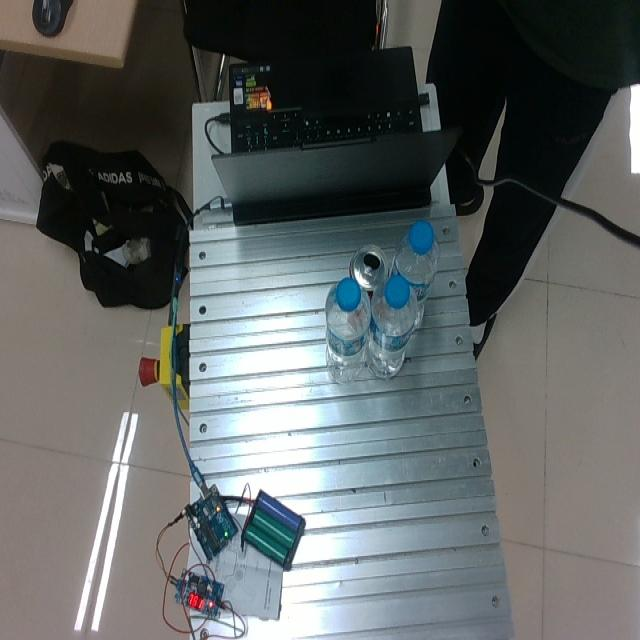coca: (348, 242, 389, 302)
lavie: (388, 220, 439, 331), (366, 273, 419, 379), (323, 276, 371, 383)
